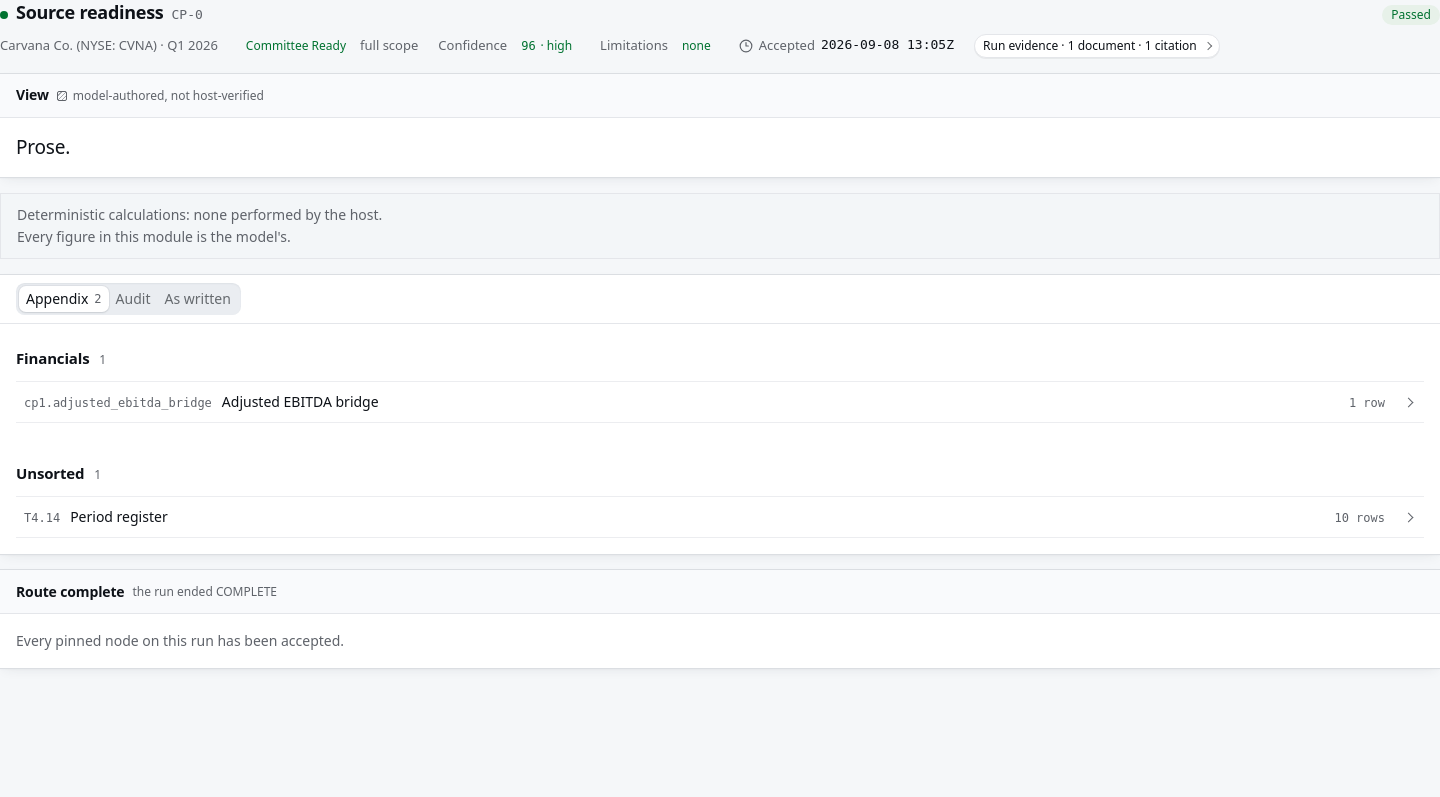
Test: Analysis › the appendix is an index: a register a line, opened one at a time, eight rows first
The width and height of the screenshot is (1440, 797).
What coordinates should you click on to do the following:
click the button "T4.14 Period register 10 rows"
I would click on:
 (42, 518)
Its box is x1=16 y1=498 x2=1424 y2=538.
(page scrolled)
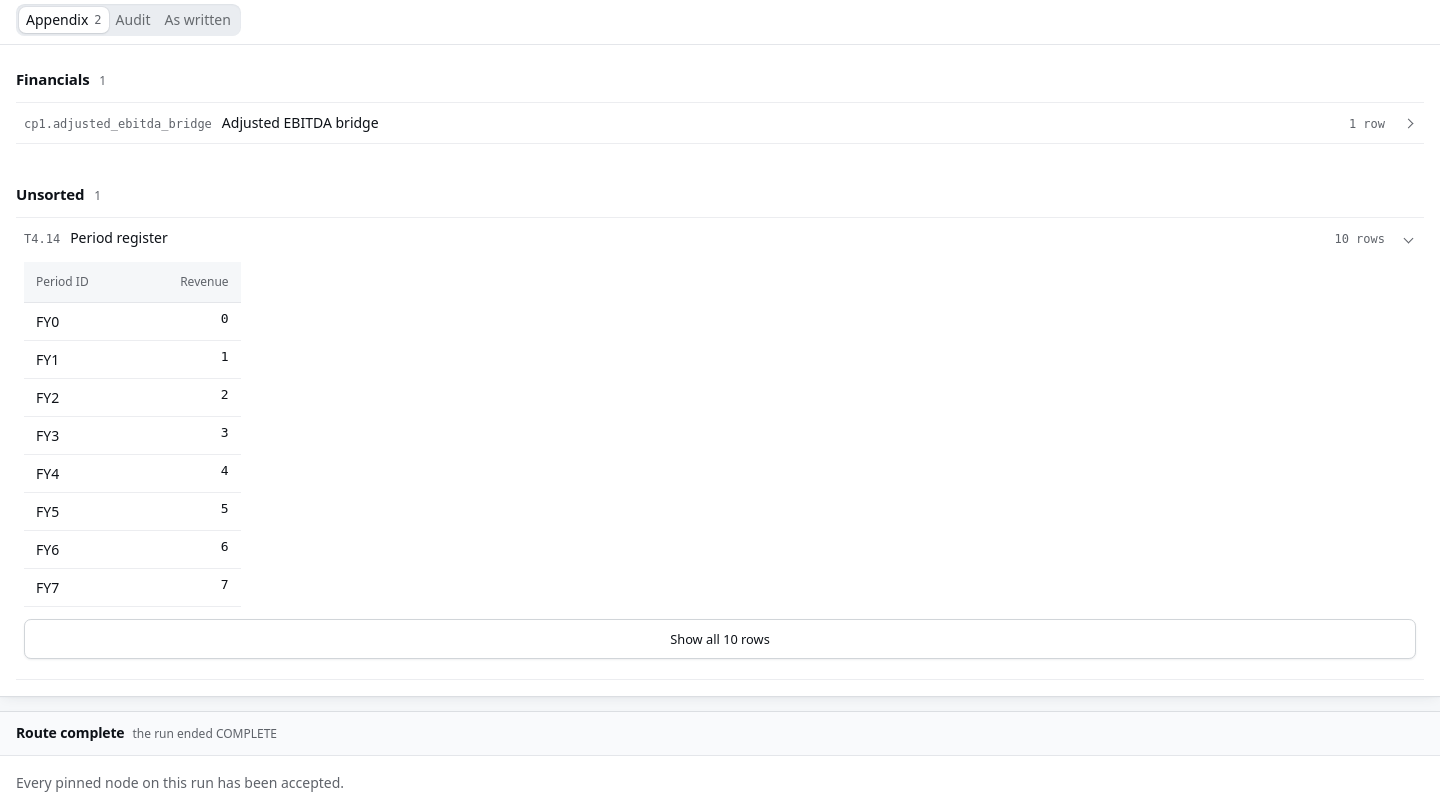
expect the button "T4.14 Period register 10 rows" is expanded: met, box x1=16 y1=218 x2=1424 y2=258
expect the text titled "period_id" reads "Period ID": met, box x1=36 y1=274 x2=89 y2=291
What coordinates should you click on to do the following:
click the button "Show all 10 rows"
I would click on:
 (720, 639)
Its box is x1=24 y1=619 x2=1416 y2=659.
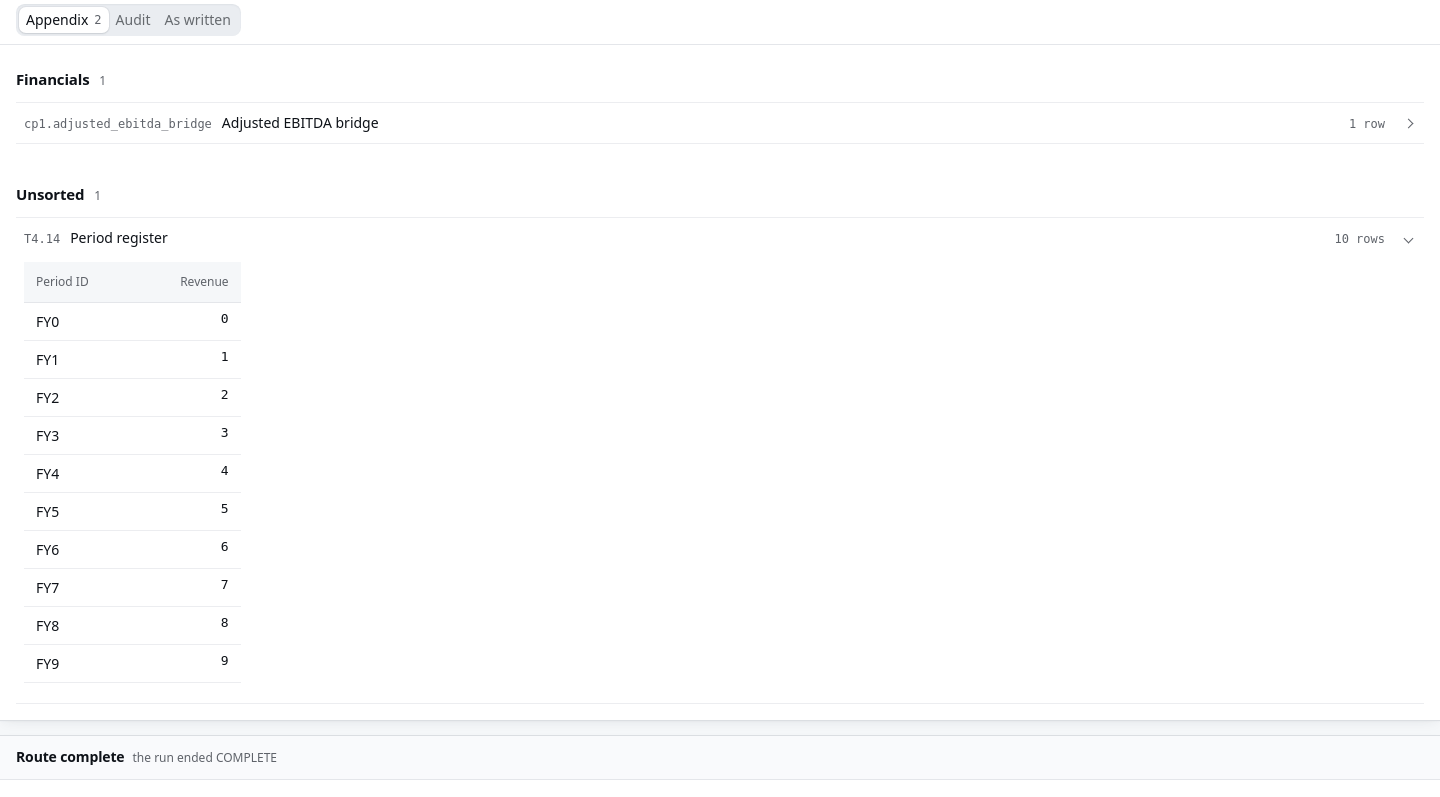
Opening another closes the first.
What coordinates should you click on to do the following:
click the button "cp1.adjusted_ebitda_bridge Adjusted EBITDA bridge 1 row"
I would click on:
 (118, 124)
Its box is x1=16 y1=103 x2=1424 y2=143.
(page scrolled)
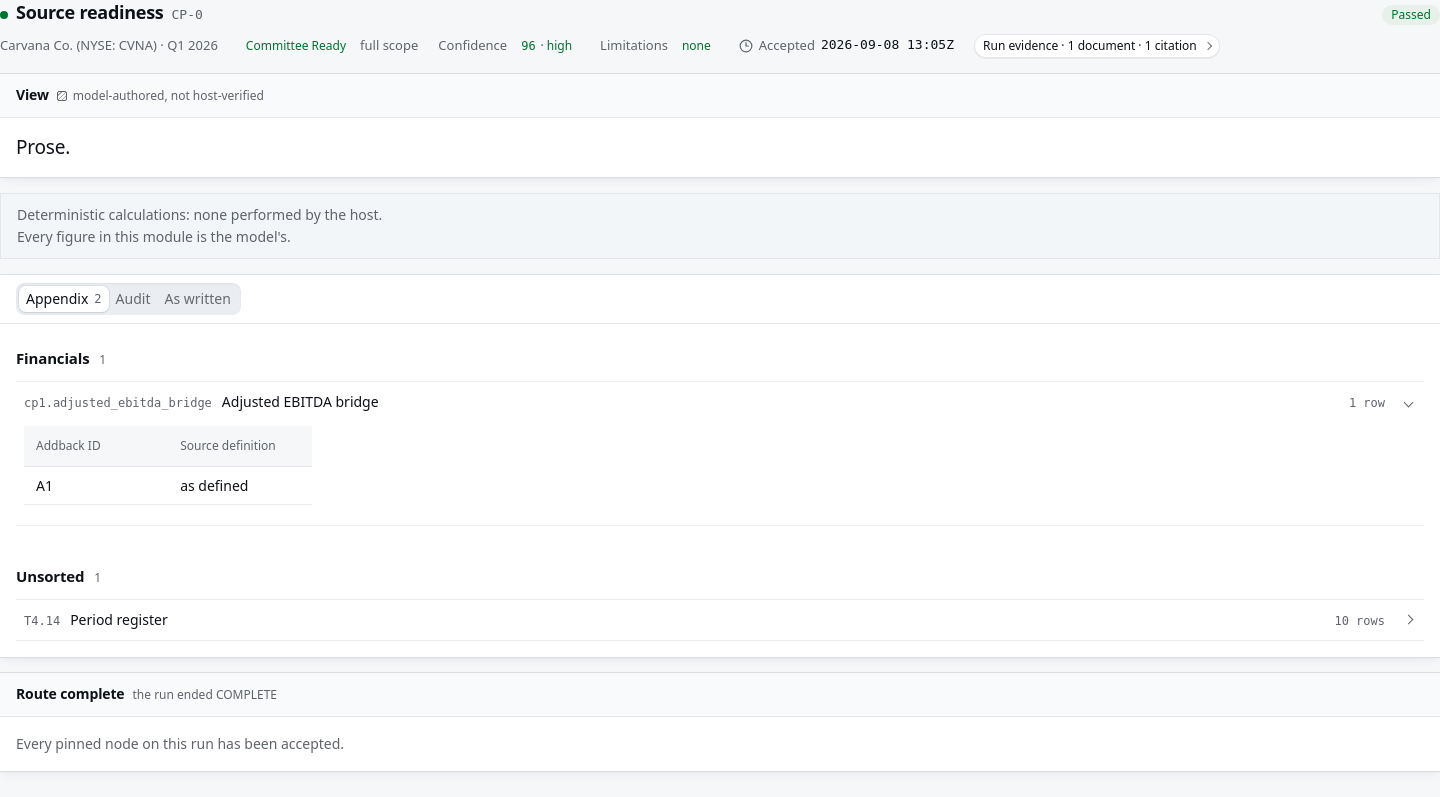
expect the button "T4.14 Period register 10 rows" is collapsed: met, box x1=16 y1=600 x2=1424 y2=640
